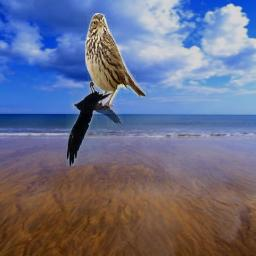Crow: (66, 81, 123, 166)
Sparrow: (85, 13, 146, 110)
